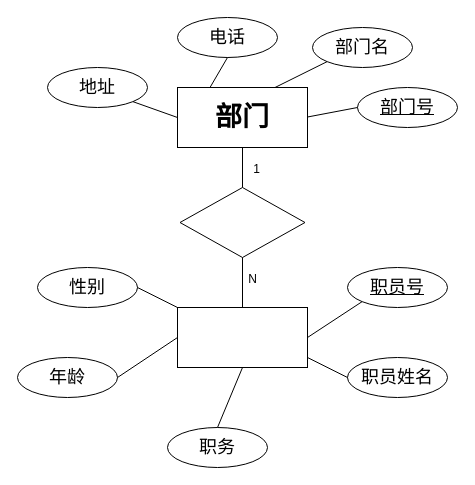
Some shapes in this 475 by 485 pixel diagram are drawn without their labels. The centre of each missing label's shape, as x and y in pixels:
"归属" goes at (242,222).
"职员" goes at (242,337).
